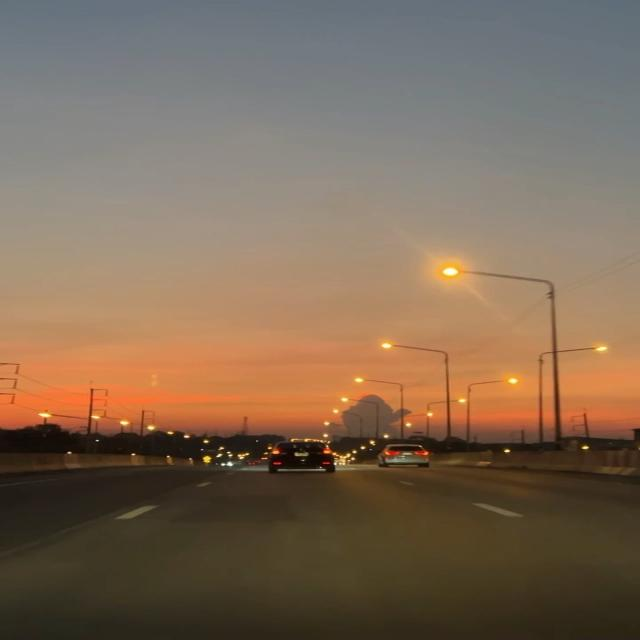Poth-hole: (188, 487, 596, 640)
